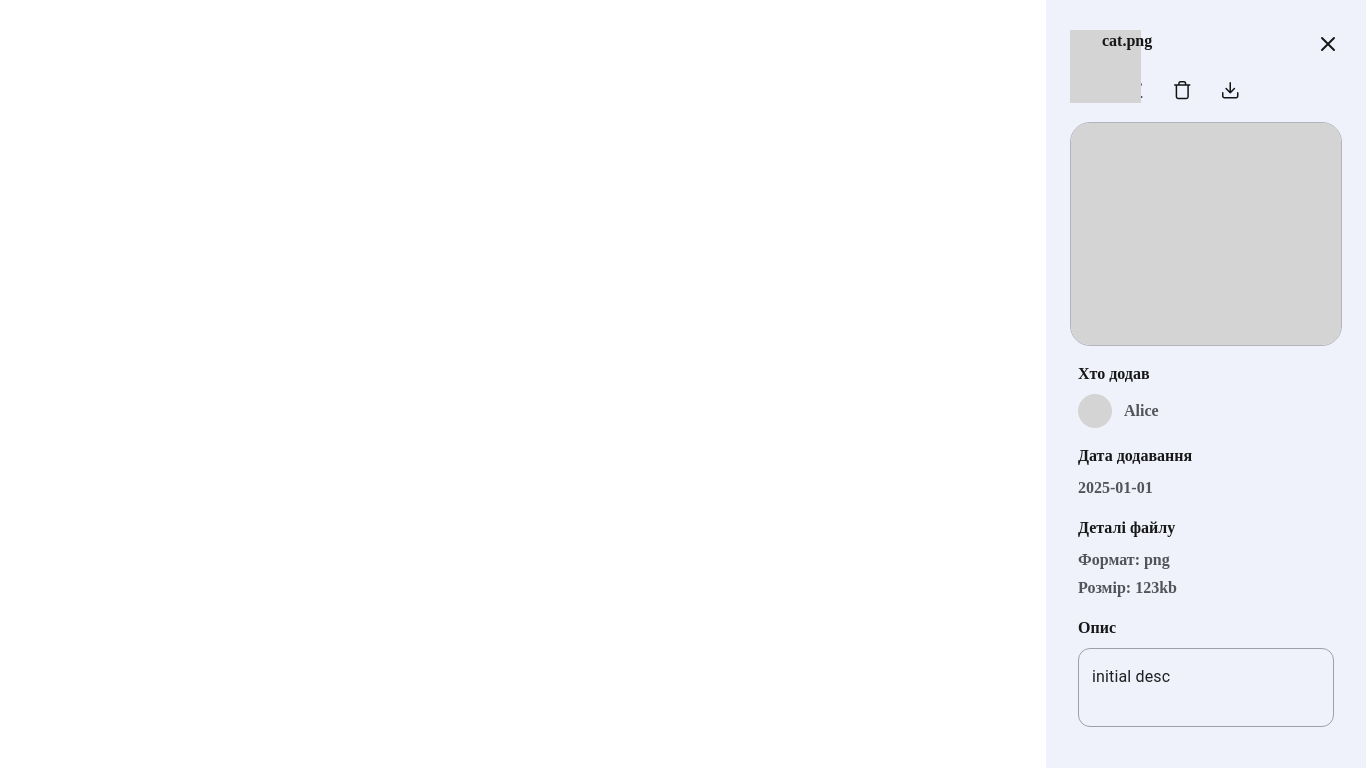
Test: FileInfoSidebar › should close local delete modal without deleting when cancel is clicked
Click the button named "Видалити" at (1182, 90), box [1166,74,1198,106]
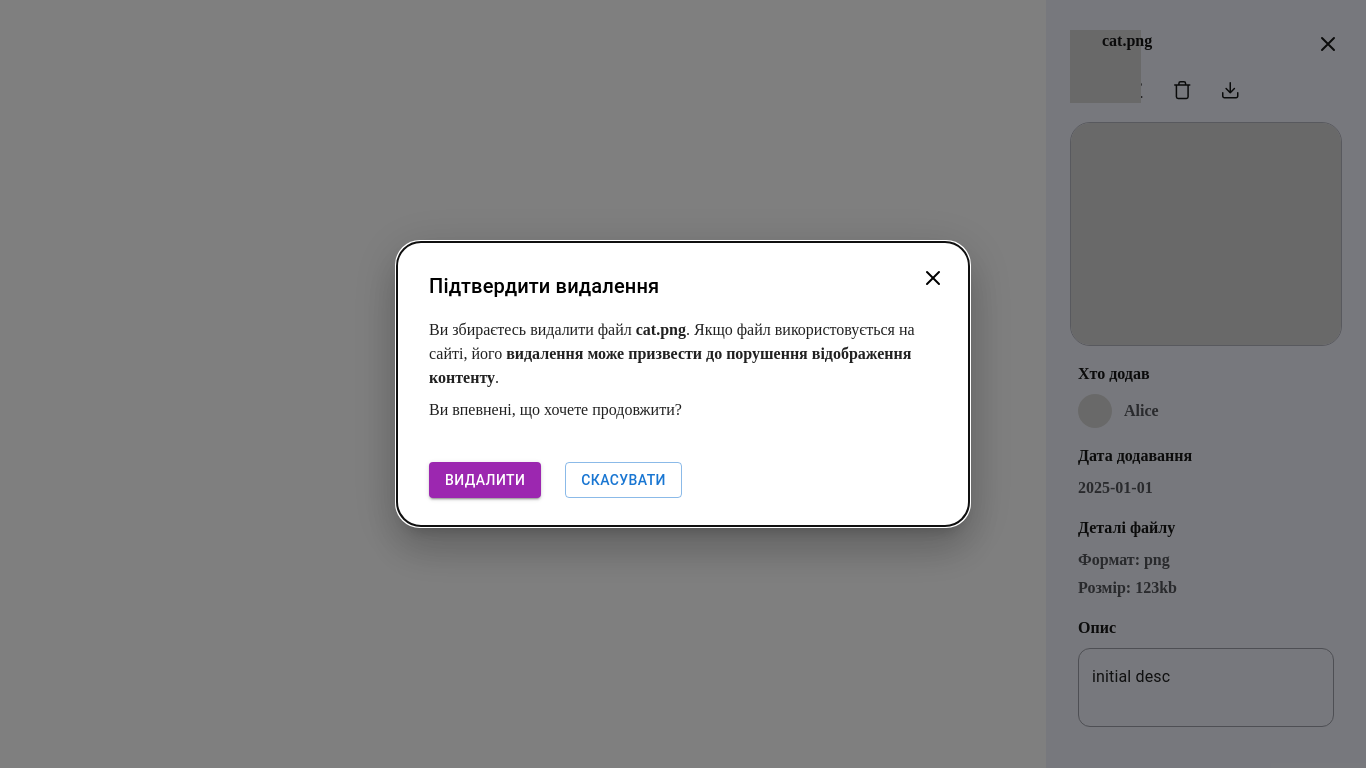
Now the heading "Підтвердити видалення" is shown, box [429,274,659,298]
Click the button "Скасувати" at (624, 480), box [565,462,682,498]
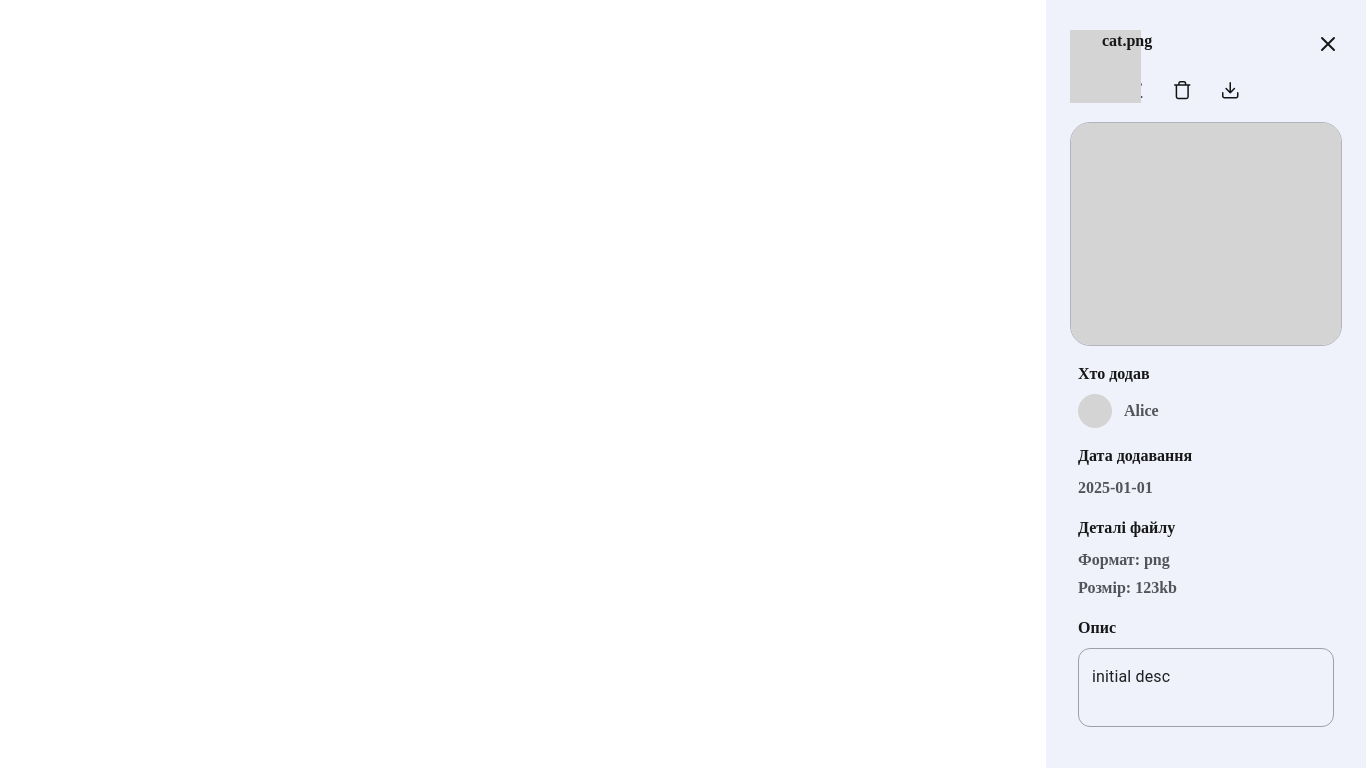
Now the heading "Підтвердити видалення" is gone
